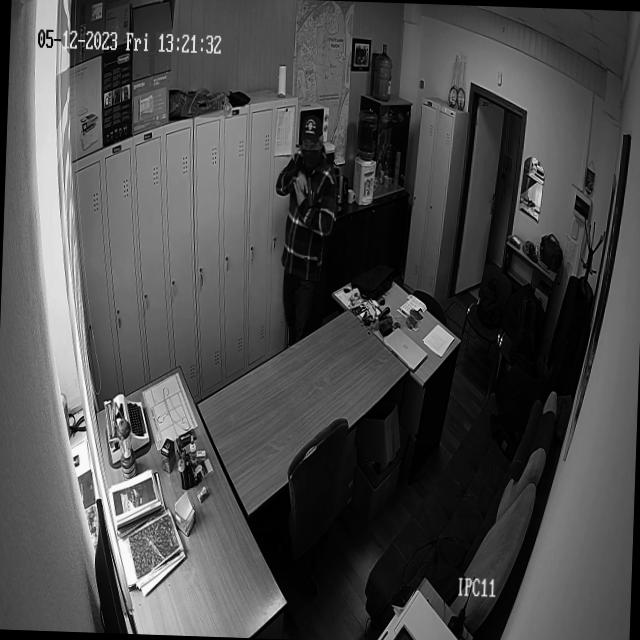gun: (304, 171, 316, 194)
person with a gun: (272, 113, 347, 342)
